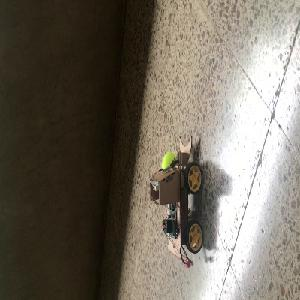Ball: (160, 153, 175, 169)
Robot: (149, 136, 204, 258)
